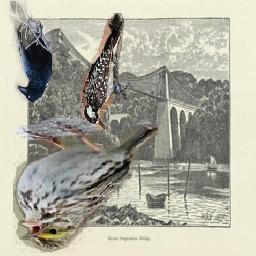Crow: (10, 0, 53, 102)
Sparrow: (14, 119, 159, 256)
Woodpecker: (77, 13, 135, 133)
